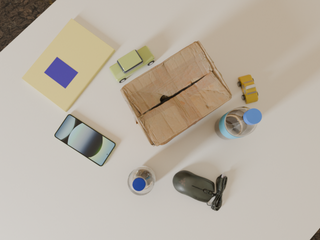book: (22, 19, 115, 112)
bottle: (215, 107, 262, 140), (127, 166, 156, 196)
box: (120, 41, 232, 146)
mouse: (173, 171, 227, 211)
phone: (54, 114, 116, 166)
toy_car: (109, 46, 155, 83), (238, 75, 258, 104)
